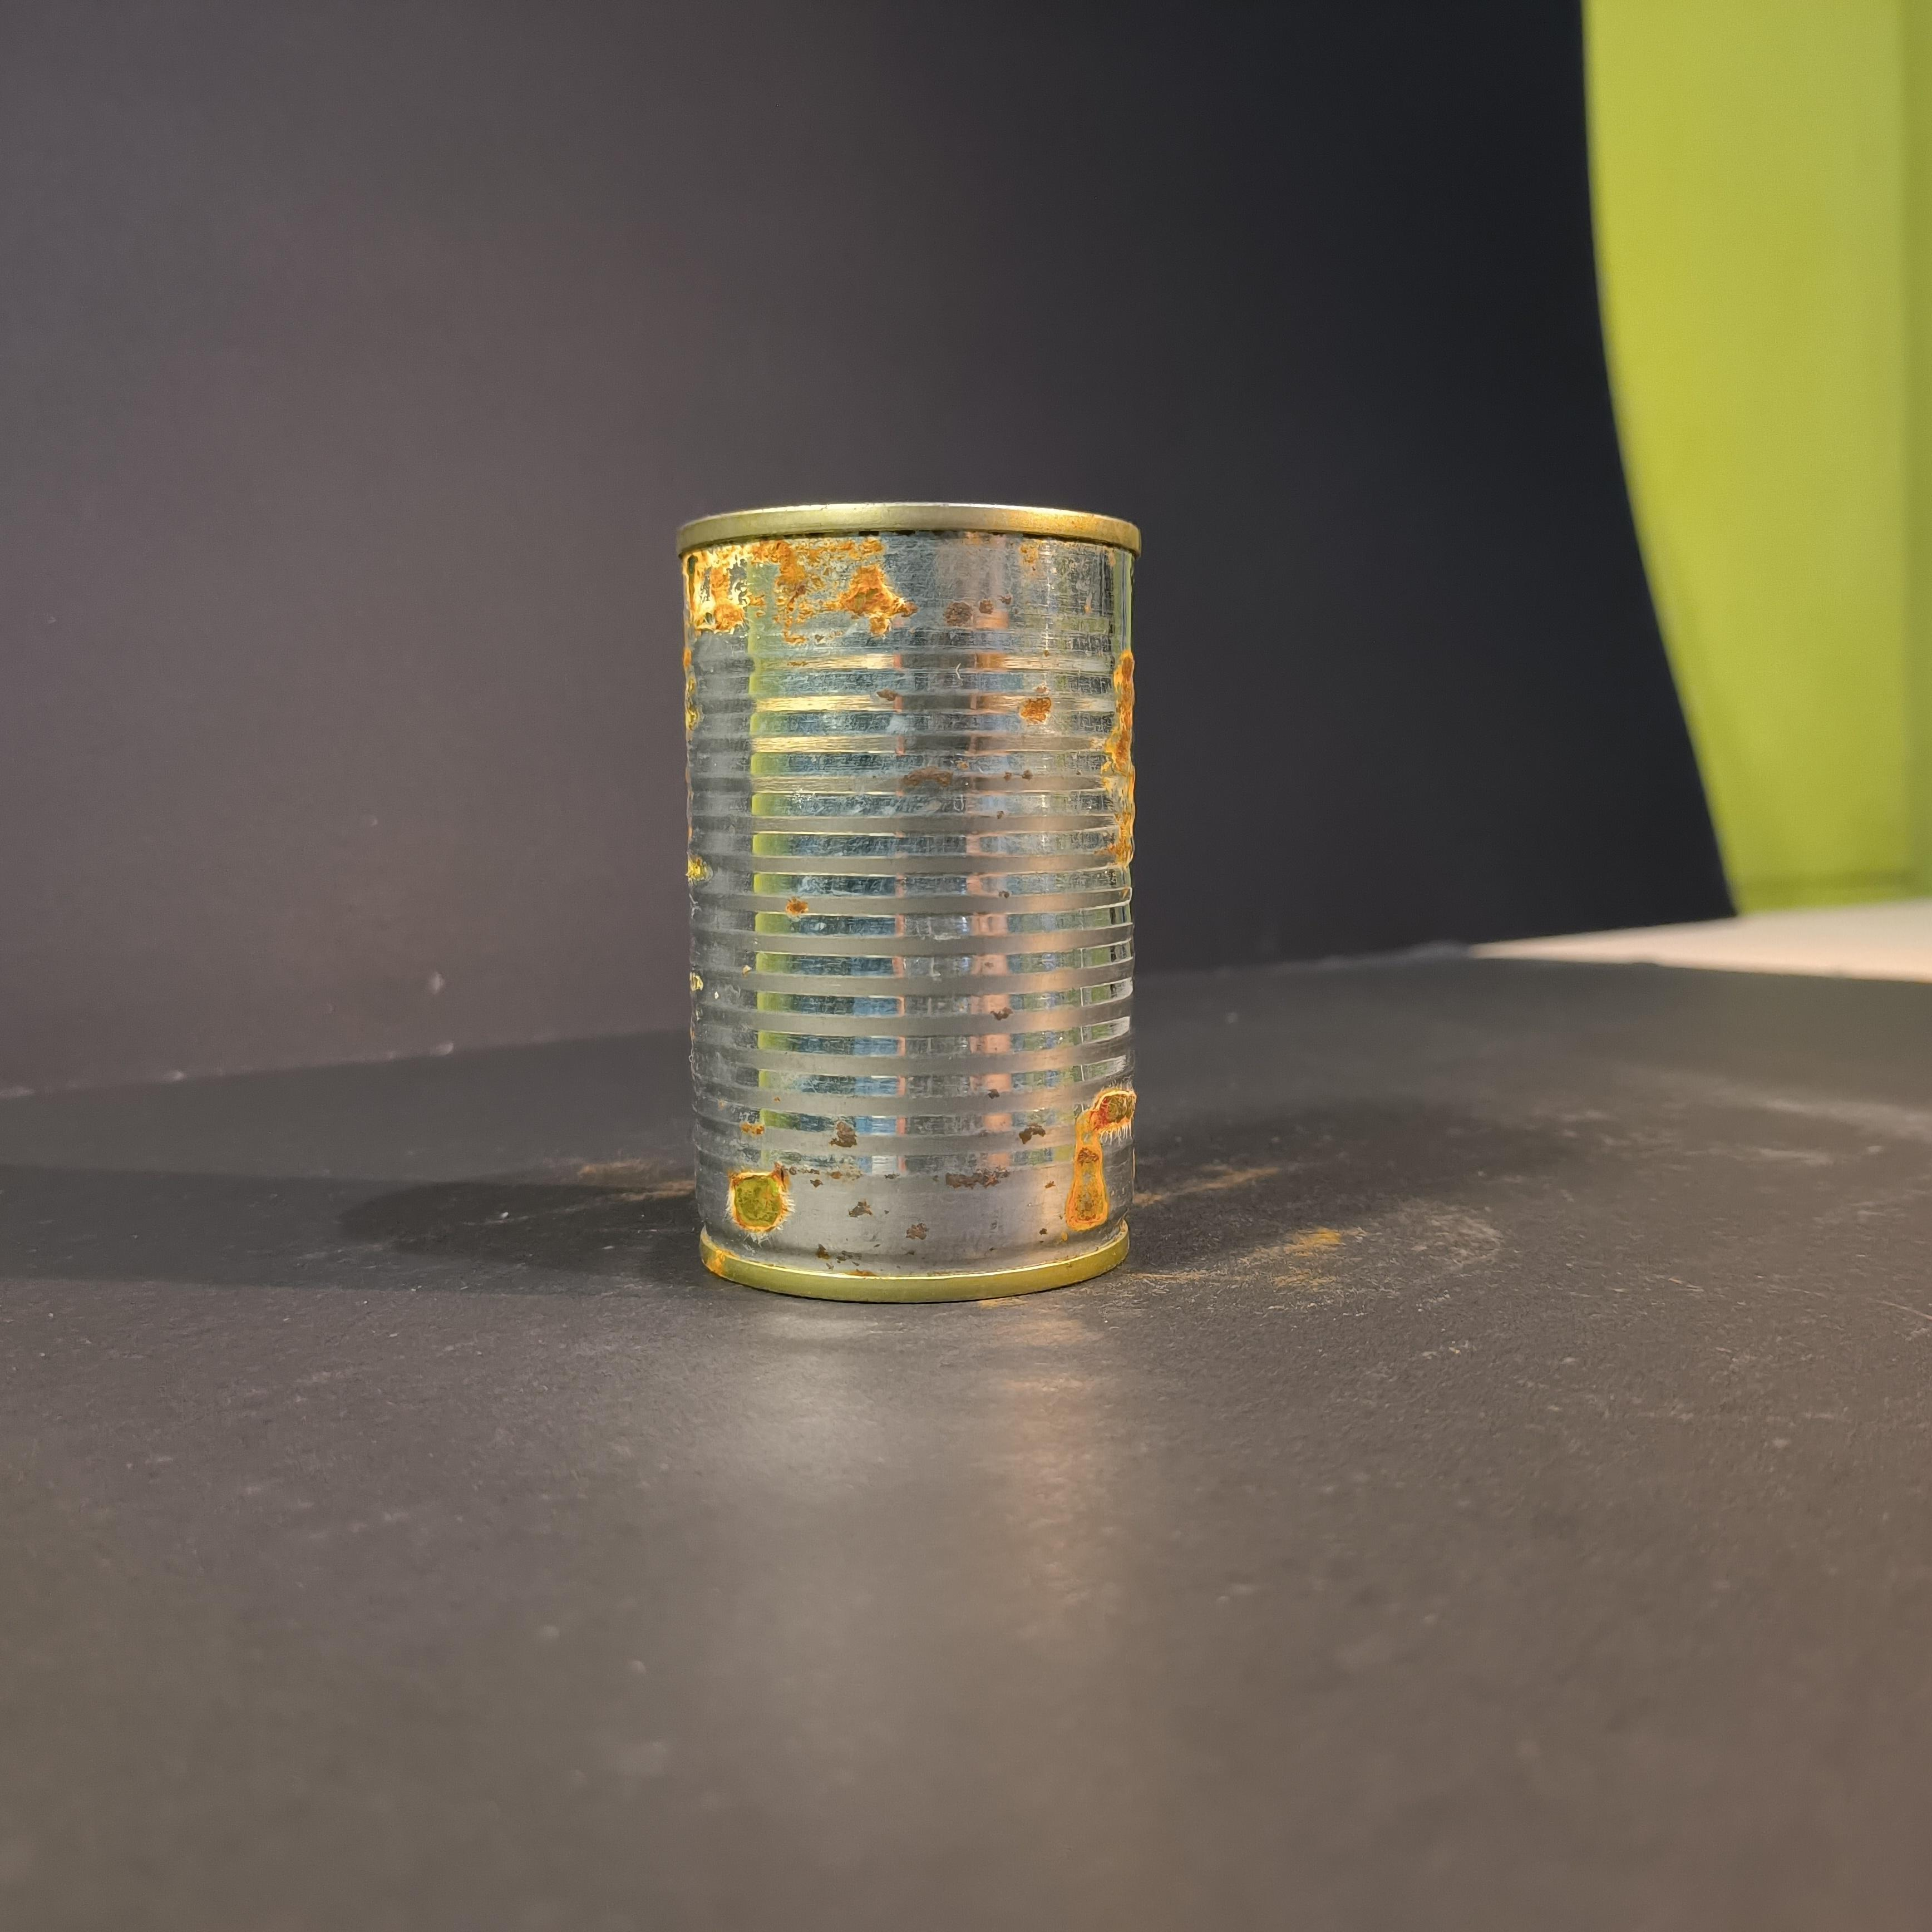Rusted: (662, 481, 1162, 1299)
